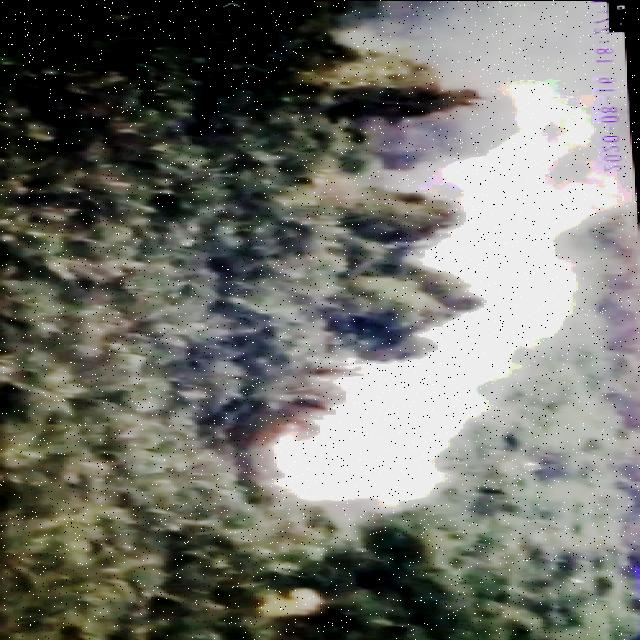asap: (242, 6, 572, 519)
